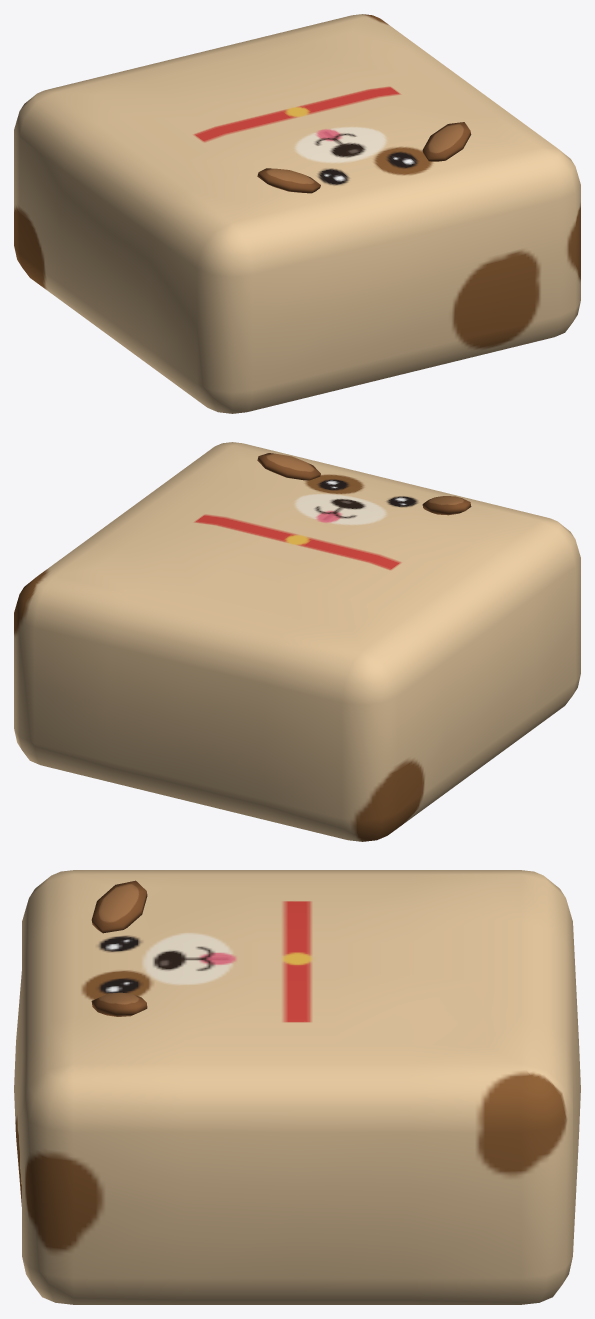
Rendered from Dog_2x2.fbx.
The picture shows the model from 3 angles, top to bottom: view 1: azimuth 30°, elevation 25°; view 2: azimuth 150°, elevation 25°; view 3: azimuth 270°, elevation 25°; orthographic projection. The views are drawn at different scales.
Parts seen in each view (by area): view 1: Dog_2x2; view 2: Dog_2x2; view 3: Dog_2x2.
Part boxes in pixels (box(x1,y1,x2,y2)): Dog_2x2: box(14, 14, 580, 413); Dog_2x2: box(14, 442, 580, 841); Dog_2x2: box(14, 870, 580, 1304).
Bounding box in the file's own units: 1.98 × 0.9674 × 1.98.
Materials: 1 (1 with a texture image).
